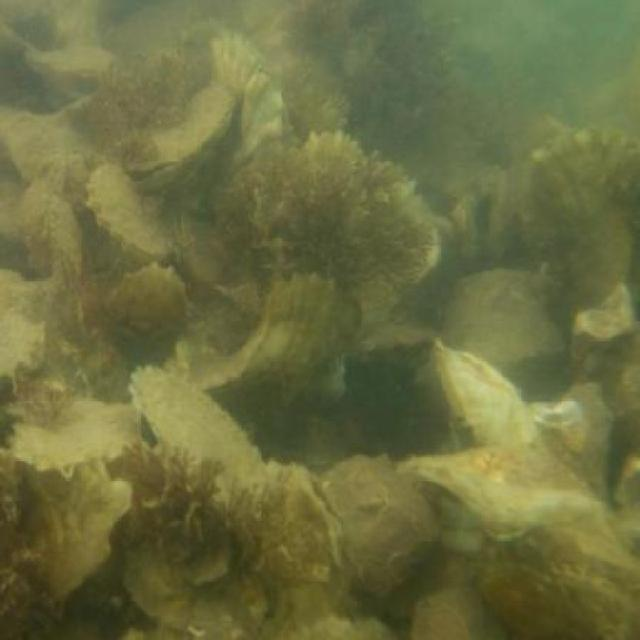Oyster-Closed: (132, 366, 264, 494), (118, 81, 238, 192)
Oyster-Indeterminate: (196, 282, 365, 428), (476, 501, 640, 640), (397, 442, 612, 530), (317, 455, 441, 595), (20, 459, 133, 601), (228, 463, 345, 589), (208, 37, 299, 197), (443, 268, 566, 379), (431, 345, 539, 448), (90, 159, 182, 265), (5, 395, 133, 465), (0, 273, 61, 397), (410, 589, 513, 640), (109, 267, 186, 329), (575, 290, 640, 360), (25, 43, 123, 89)
